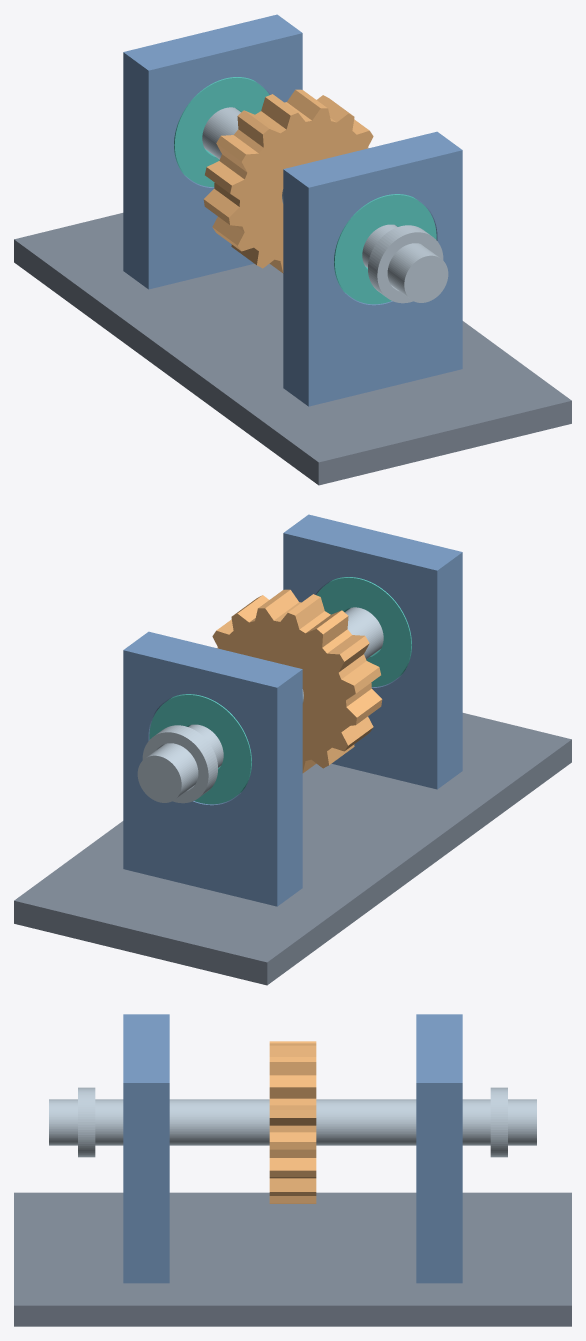
File: assembly.glb
3 views of the same model, one above another, from view 1: azimuth 30°, elevation 25°; view 2: azimuth 150°, elevation 25°; view 3: azimuth 270°, elevation 25° (orthographic). The views are drawn at different scales.
Parts seen in each view (by area): view 1: base, rear_housing, front_housing, gear, rear_bearing, front_bearing, shaft, rear_retainer; view 2: base, front_housing, rear_housing, gear, front_bearing, rear_bearing, shaft, front_retainer; view 3: base, shaft, front_housing, rear_housing, gear, front_retainer, rear_retainer.
Boxes of the visible parts, x1,y1,x2,y2 form: base: [14, 213, 571, 485]; rear_housing: [283, 131, 462, 406]; front_housing: [123, 14, 302, 289]; gear: [203, 89, 373, 273]; rear_bearing: [334, 194, 436, 304]; front_bearing: [174, 77, 269, 187]; shaft: [202, 107, 448, 302]; rear_retainer: [368, 225, 443, 303]; base: [14, 713, 571, 985]; front_housing: [123, 631, 302, 906]; rear_housing: [283, 514, 462, 789]; gear: [212, 589, 382, 773]; front_bearing: [149, 694, 251, 804]; rear_bearing: [316, 577, 411, 687]; shaft: [137, 607, 383, 802]; front_retainer: [142, 725, 217, 803]; base: [14, 1192, 571, 1326]; shaft: [49, 1099, 536, 1145]; front_housing: [416, 1014, 462, 1283]; rear_housing: [123, 1014, 169, 1283]; gear: [269, 1041, 316, 1203]; front_retainer: [490, 1087, 507, 1157]; rear_retainer: [78, 1087, 95, 1157].
Size of the model in its own units: 0.0434 by 0.0396 by 0.0904.
